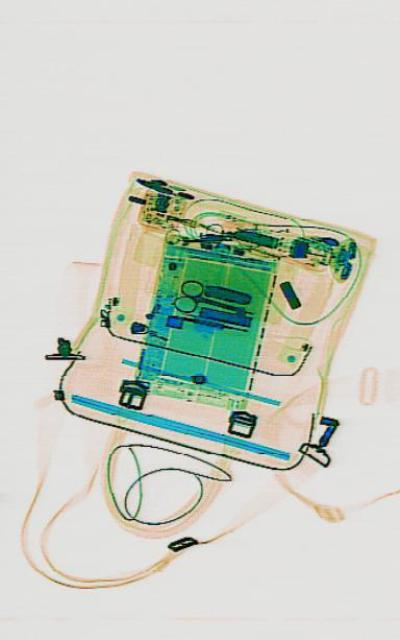Scissors: (171, 274, 251, 330)
